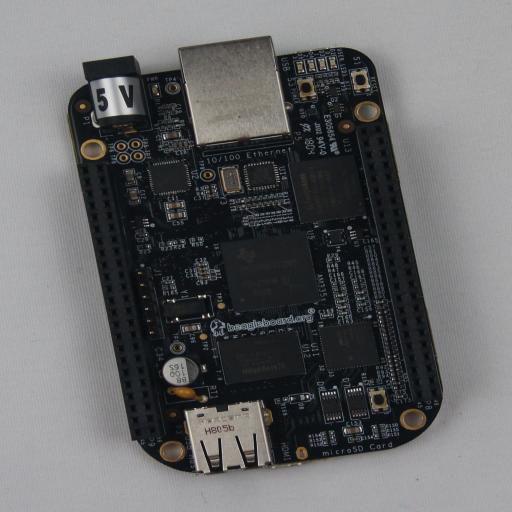Beaglebone Black: (67, 36, 443, 475)
